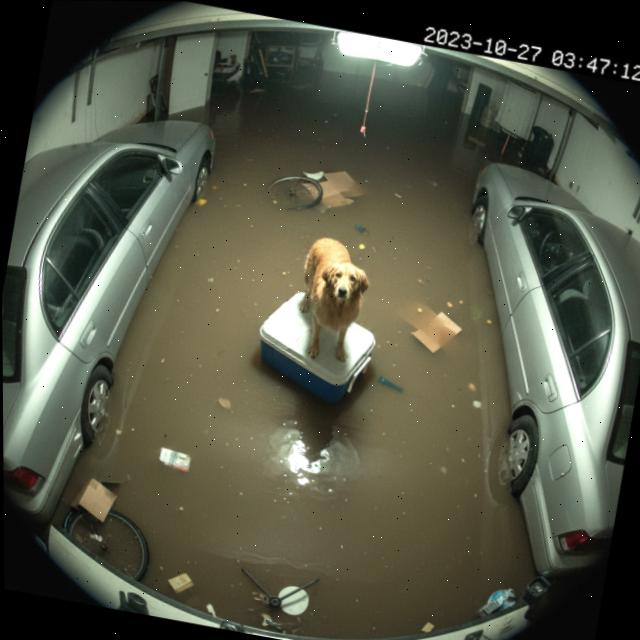dog: (277, 222, 388, 378)
